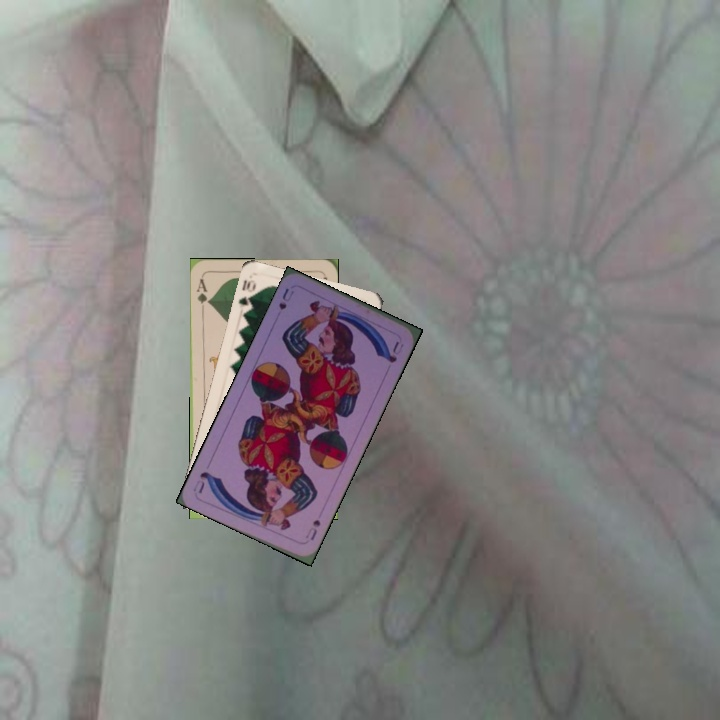G10: (235, 275, 259, 315)
GA: (193, 275, 213, 314)
SU: (275, 284, 297, 312), (301, 515, 323, 543)
